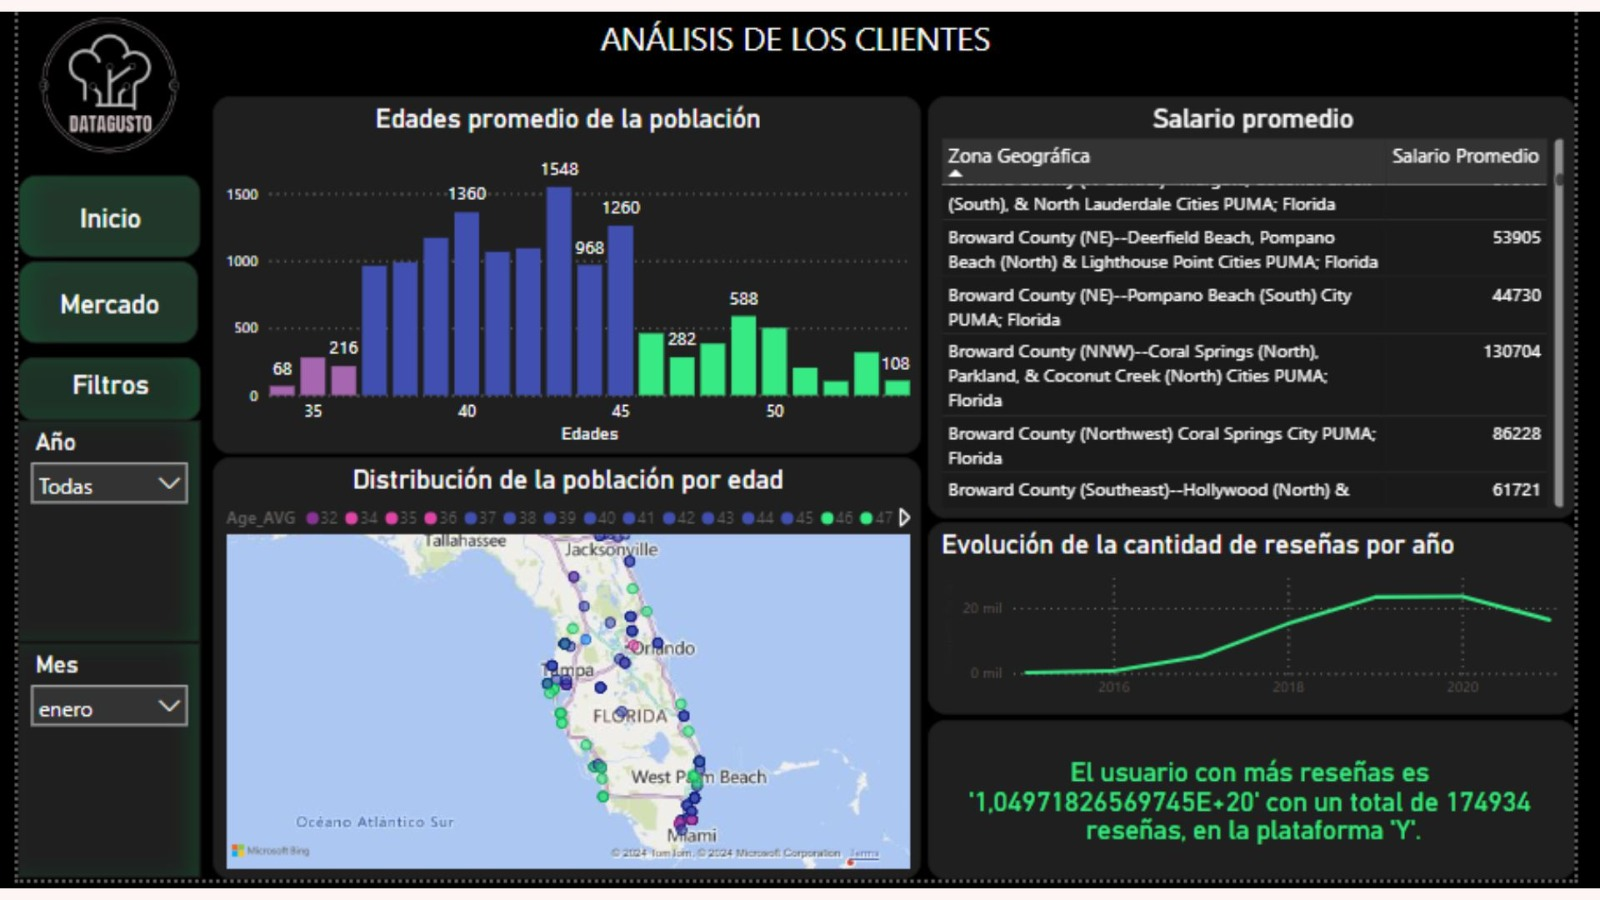

The page's visual inventory and layout, read from the dashboard file:
{"tool":"powerbi","page":{"name":"Clientes","canvas":[1280,720],"ordinal":2},"visuals":[{"type":"slicer","fields":{"Values":["Calendario.Año"]},"box":[0,343.3,150,181.7],"z":0},{"type":"slicer","fields":{"Values":["Calendario.Nombre del mes"]},"box":[0,525,150,193.3],"z":1000},{"type":"actionButton","title":"Clientes","box":[0,140.9,150,68.3],"z":2000},{"type":"actionButton","title":"Clientes","box":[0,212.3,148.3,67.7],"z":3000},{"type":"clusteredColumnChart","title":"Edades promedio de la población","fields":{"Category":["datagusto_censo.Age_AVG"],"Y":["Sum(datagusto_censo.Age_AVG)"]},"box":[159.8,76.3,581.8,293.8],"z":4000},{"type":"map","title":"Distribución de la población por edad","fields":{"Category":["datagusto_censo.GEO"],"Size":["Count(datagusto_censo.Age_AVG)"],"Series":["datagusto_censo.Age_AVG"]},"box":[159.8,373,581.8,347],"z":5000},{"type":"card","fields":{"Values":["1-Medidas.ResumenUsuarioConMasReseñas"]},"box":[747.2,589,532.8,131],"z":6000},{"type":"lineChart","title":"Evolución de la cantidad de reseñas por año","fields":{"Y":["Count(ReviewPowerBI.review_id)"],"Category":["Calendario.Date.Variación.Jerarquía de fechas.Año"]},"box":[747.2,426.2,532.8,158.4],"z":7000},{"type":"tableEx","title":"Salario promedio","fields":{"Values":["datagusto_censo.GEO","datagusto_censo.Household_Income_AVG"]},"box":[747.4,76.3,532.8,347],"z":8000},{"type":"textbox","box":[0,290.9,150,51.7],"z":9000},{"type":"textbox","box":[205.9,4.3,865.4,54.7],"z":10000},{"type":"image","box":[0,1.7,148.3,133.3],"z":11000}]}

Visuals, with their boxes in screenshot pixels (x1, y1, x2, y2), scaled from the page's 1280x720 canvas onto the 1600x900 screenshot:
slicer - Calendario.Año: rect(0, 429, 188, 656)
slicer - Calendario.Nombre del mes: rect(0, 656, 188, 898)
"Clientes" actionButton: rect(0, 176, 188, 262)
"Clientes" actionButton: rect(0, 265, 185, 350)
"Edades promedio de la población" clusteredColumnChart: rect(200, 95, 927, 463)
"Distribución de la población por edad" map: rect(200, 466, 927, 899)
card - 1-Medidas.ResumenUsuarioConMasReseñas: rect(934, 736, 1599, 899)
"Evolución de la cantidad de reseñas por año" lineChart: rect(934, 533, 1599, 731)
"Salario promedio" tableEx: rect(934, 95, 1599, 529)
textbox: rect(0, 364, 188, 428)
textbox: rect(257, 5, 1339, 74)
image: rect(0, 2, 185, 169)
